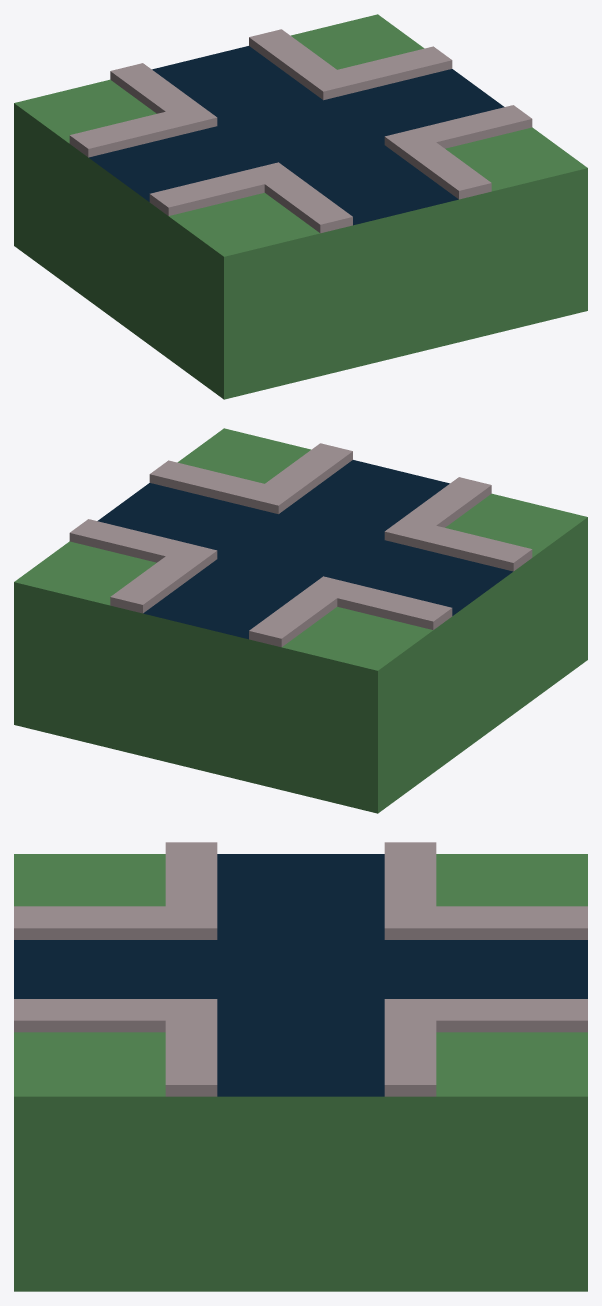
The model's file is 4wayCrossing.fbx.
3 views of the same model, one above another, from view 1: azimuth 30°, elevation 25°; view 2: azimuth 150°, elevation 25°; view 3: azimuth 270°, elevation 25° (orthographic). The views are drawn at different scales.
Visible parts, largest first — view 1: Cube.009; view 2: Cube.009; view 3: Cube.009.
Boxes of the visible parts, bbox=[...] form: Cube.009: bbox=[14, 14, 587, 399]; Cube.009: bbox=[14, 428, 587, 813]; Cube.009: bbox=[14, 842, 587, 1291].
Bounding box in the file's own units: 400 × 159 × 400.
